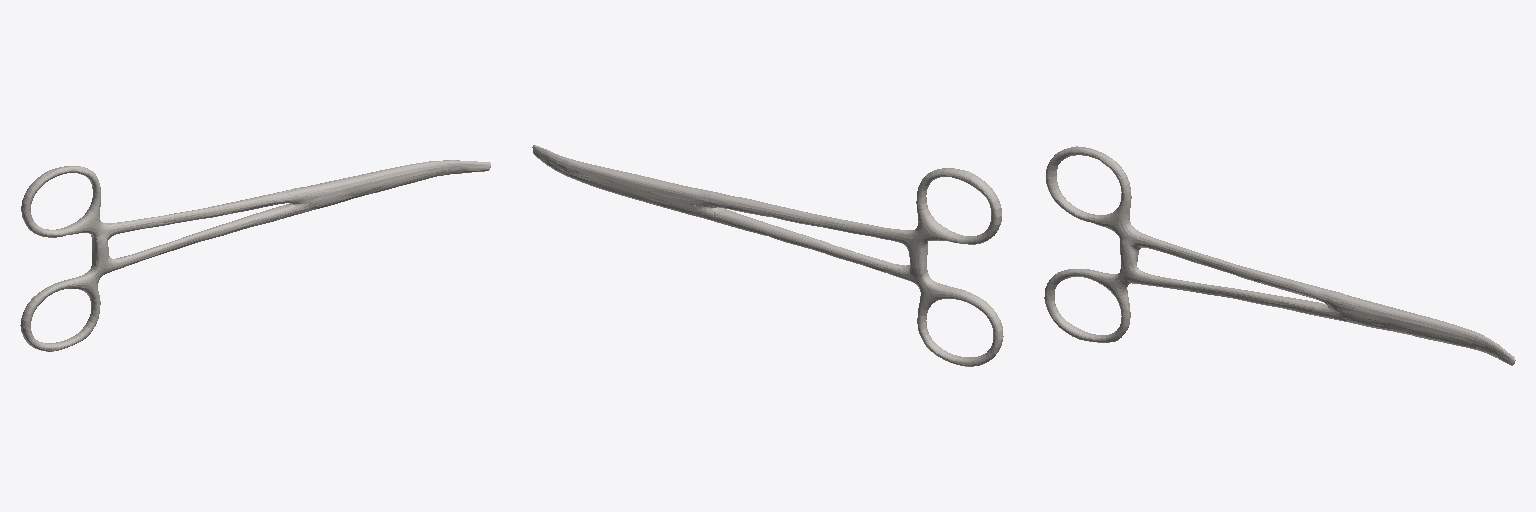
robot.urdf — Tooling_11:
<?xml version="1.0" encoding="utf-8"?>
<!-- This URDF was automatically created by SolidWorks to URDF Exporter! Originally created by Stephen Brawner (brawner@gmail.com)
     Commit Version: 1.6.0-4-g7f85cfe  Build Version: 1.6.7995.38578
     For more information, please see http://wiki.ros.org/sw_urdf_exporter -->
<robot
  name="Tooling_11">
  <link
    name="base_link">
    <inertial>
      <origin
        xyz="4.6837E-05 1.089E-05 0.00055937"
        rpy="0 0 0" />
      <mass
        value="0.048094" />
      <inertia
        ixx="6.8044E-06"
        ixy="-1.4981E-07"
        ixz="-1.3766E-06"
        iyy="0.00013264"
        iyz="-8.1105E-09"
        izz="0.00013923" />
    </inertial>
    <visual>
      <origin
        xyz="0 0 0"
        rpy="0 0 0" />
      <geometry>
        <mesh
          filename="../meshes/base_link.STL" />
      </geometry>
      <material
        name="">
        <color
          rgba="0.77647 0.75686 0.73725 1" />
      </material>
    </visual>
    <collision>
      <origin
        xyz="0 0 0"
        rpy="0 0 0" />
      <geometry>
        <mesh
          filename="../meshes/base_link.STL" />
      </geometry>
    </collision>
  </link>
</robot>

--- What the picture shows (computed from the rendered views, not written in the file) ---
3 views of the same robot in one strip: view 1: azimuth 30°, elevation 25°; view 2: azimuth 150°, elevation 25°; view 3: azimuth 330°, elevation 25° (orthographic).
Robot: Tooling_11 — 1 links, 0 joints (none); root link base_link; default pose: every joint at zero.
Visible links, largest first — view 1: base_link; view 2: base_link; view 3: base_link.
Link boxes in pixels (x1,y1,x2,y2): base_link: (20, 160, 490, 351); base_link: (532, 145, 1003, 366); base_link: (1044, 146, 1515, 365).
Bounding box of the posed robot: 0.1825 × 0.0123 × 0.0694 m (x, y, z).
1 mesh visuals loaded from 1 distinct referenced files (1 binary STL).
